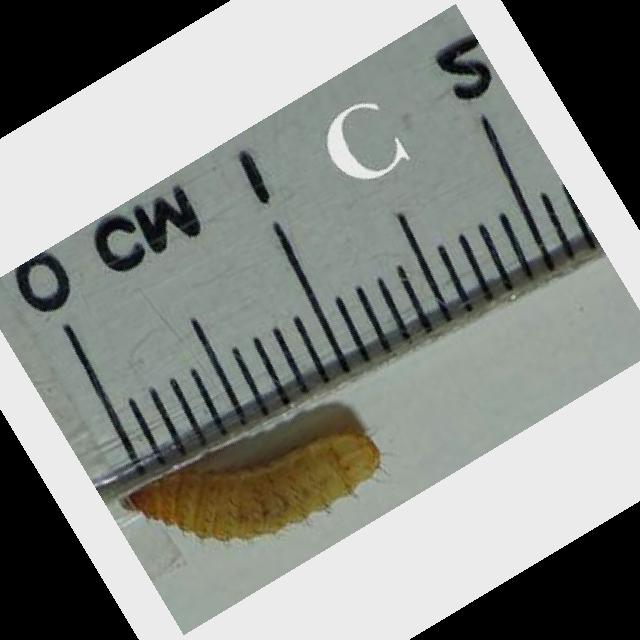Maggot: (113, 431, 385, 539)
